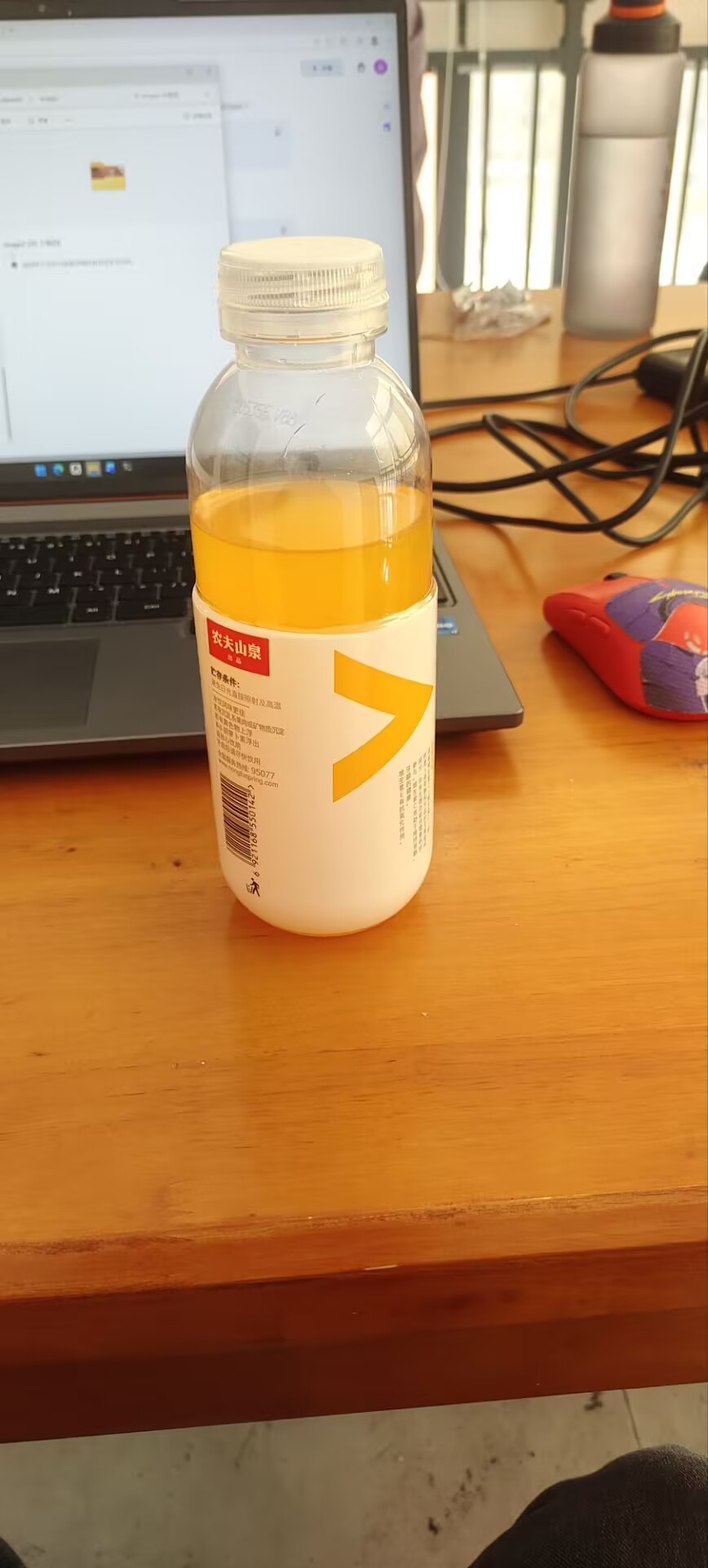redbull: (117, 216, 519, 1036), (165, 230, 471, 985), (192, 242, 450, 943)
